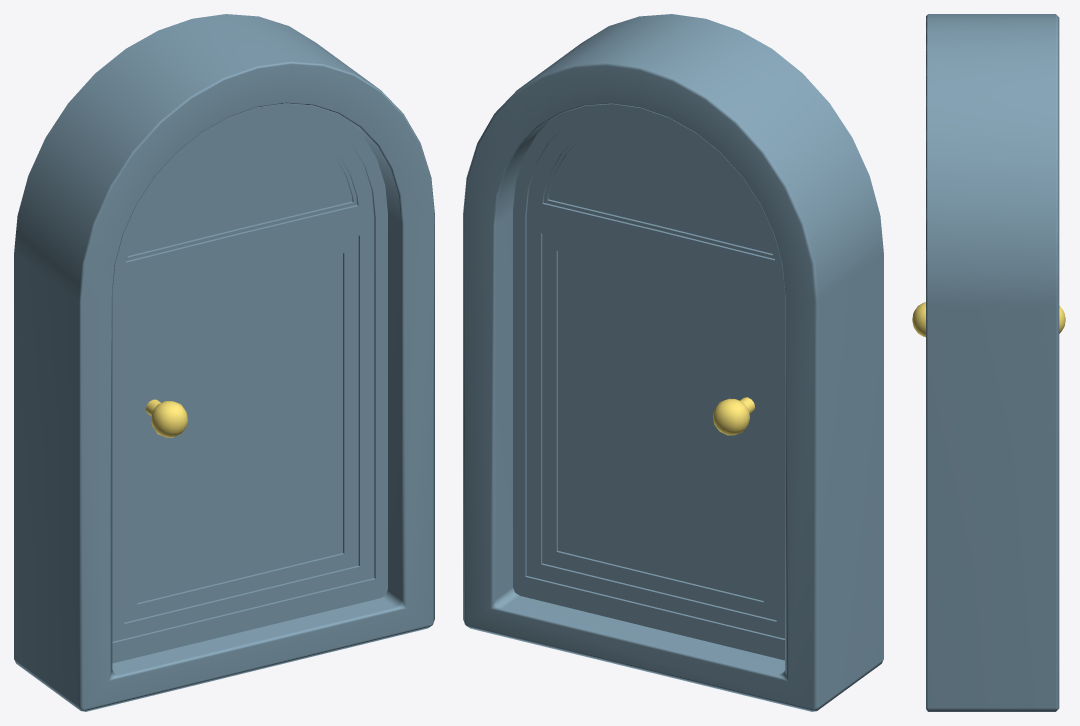
File: Door_1.glb
The picture shows the model from 3 angles, left to right: view 1: azimuth 30°, elevation 25°; view 2: azimuth 150°, elevation 25°; view 3: azimuth 270°, elevation 25°; orthographic projection.
Parts seen in each view (by area): view 1: Door_1; view 2: Door_1; view 3: Door_1.
Boxes of the visible parts, <box> form: Door_1: <box>14,14,434,711</box>; Door_1: <box>463,14,883,711</box>; Door_1: <box>912,14,1065,711</box>.
Bounding box in the file's own units: 1.49 × 2.42 × 0.5652.
Materials: 1 (1 with a texture image).
